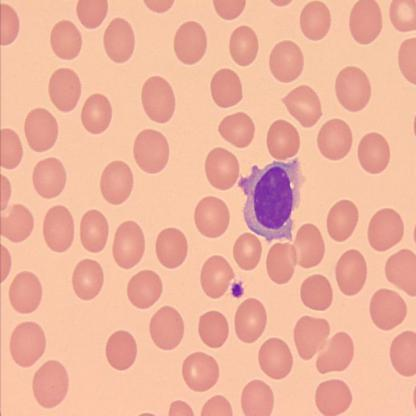Atypical lymphocyte: (236, 154, 306, 245)
